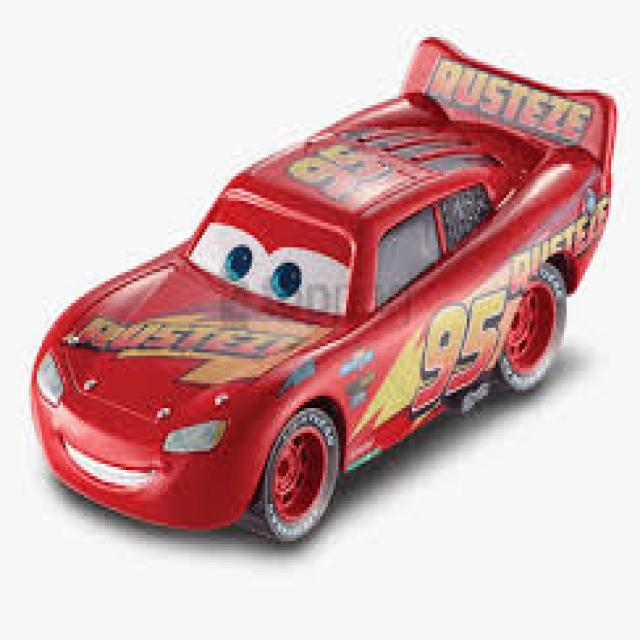Car: (26, 34, 616, 544)
